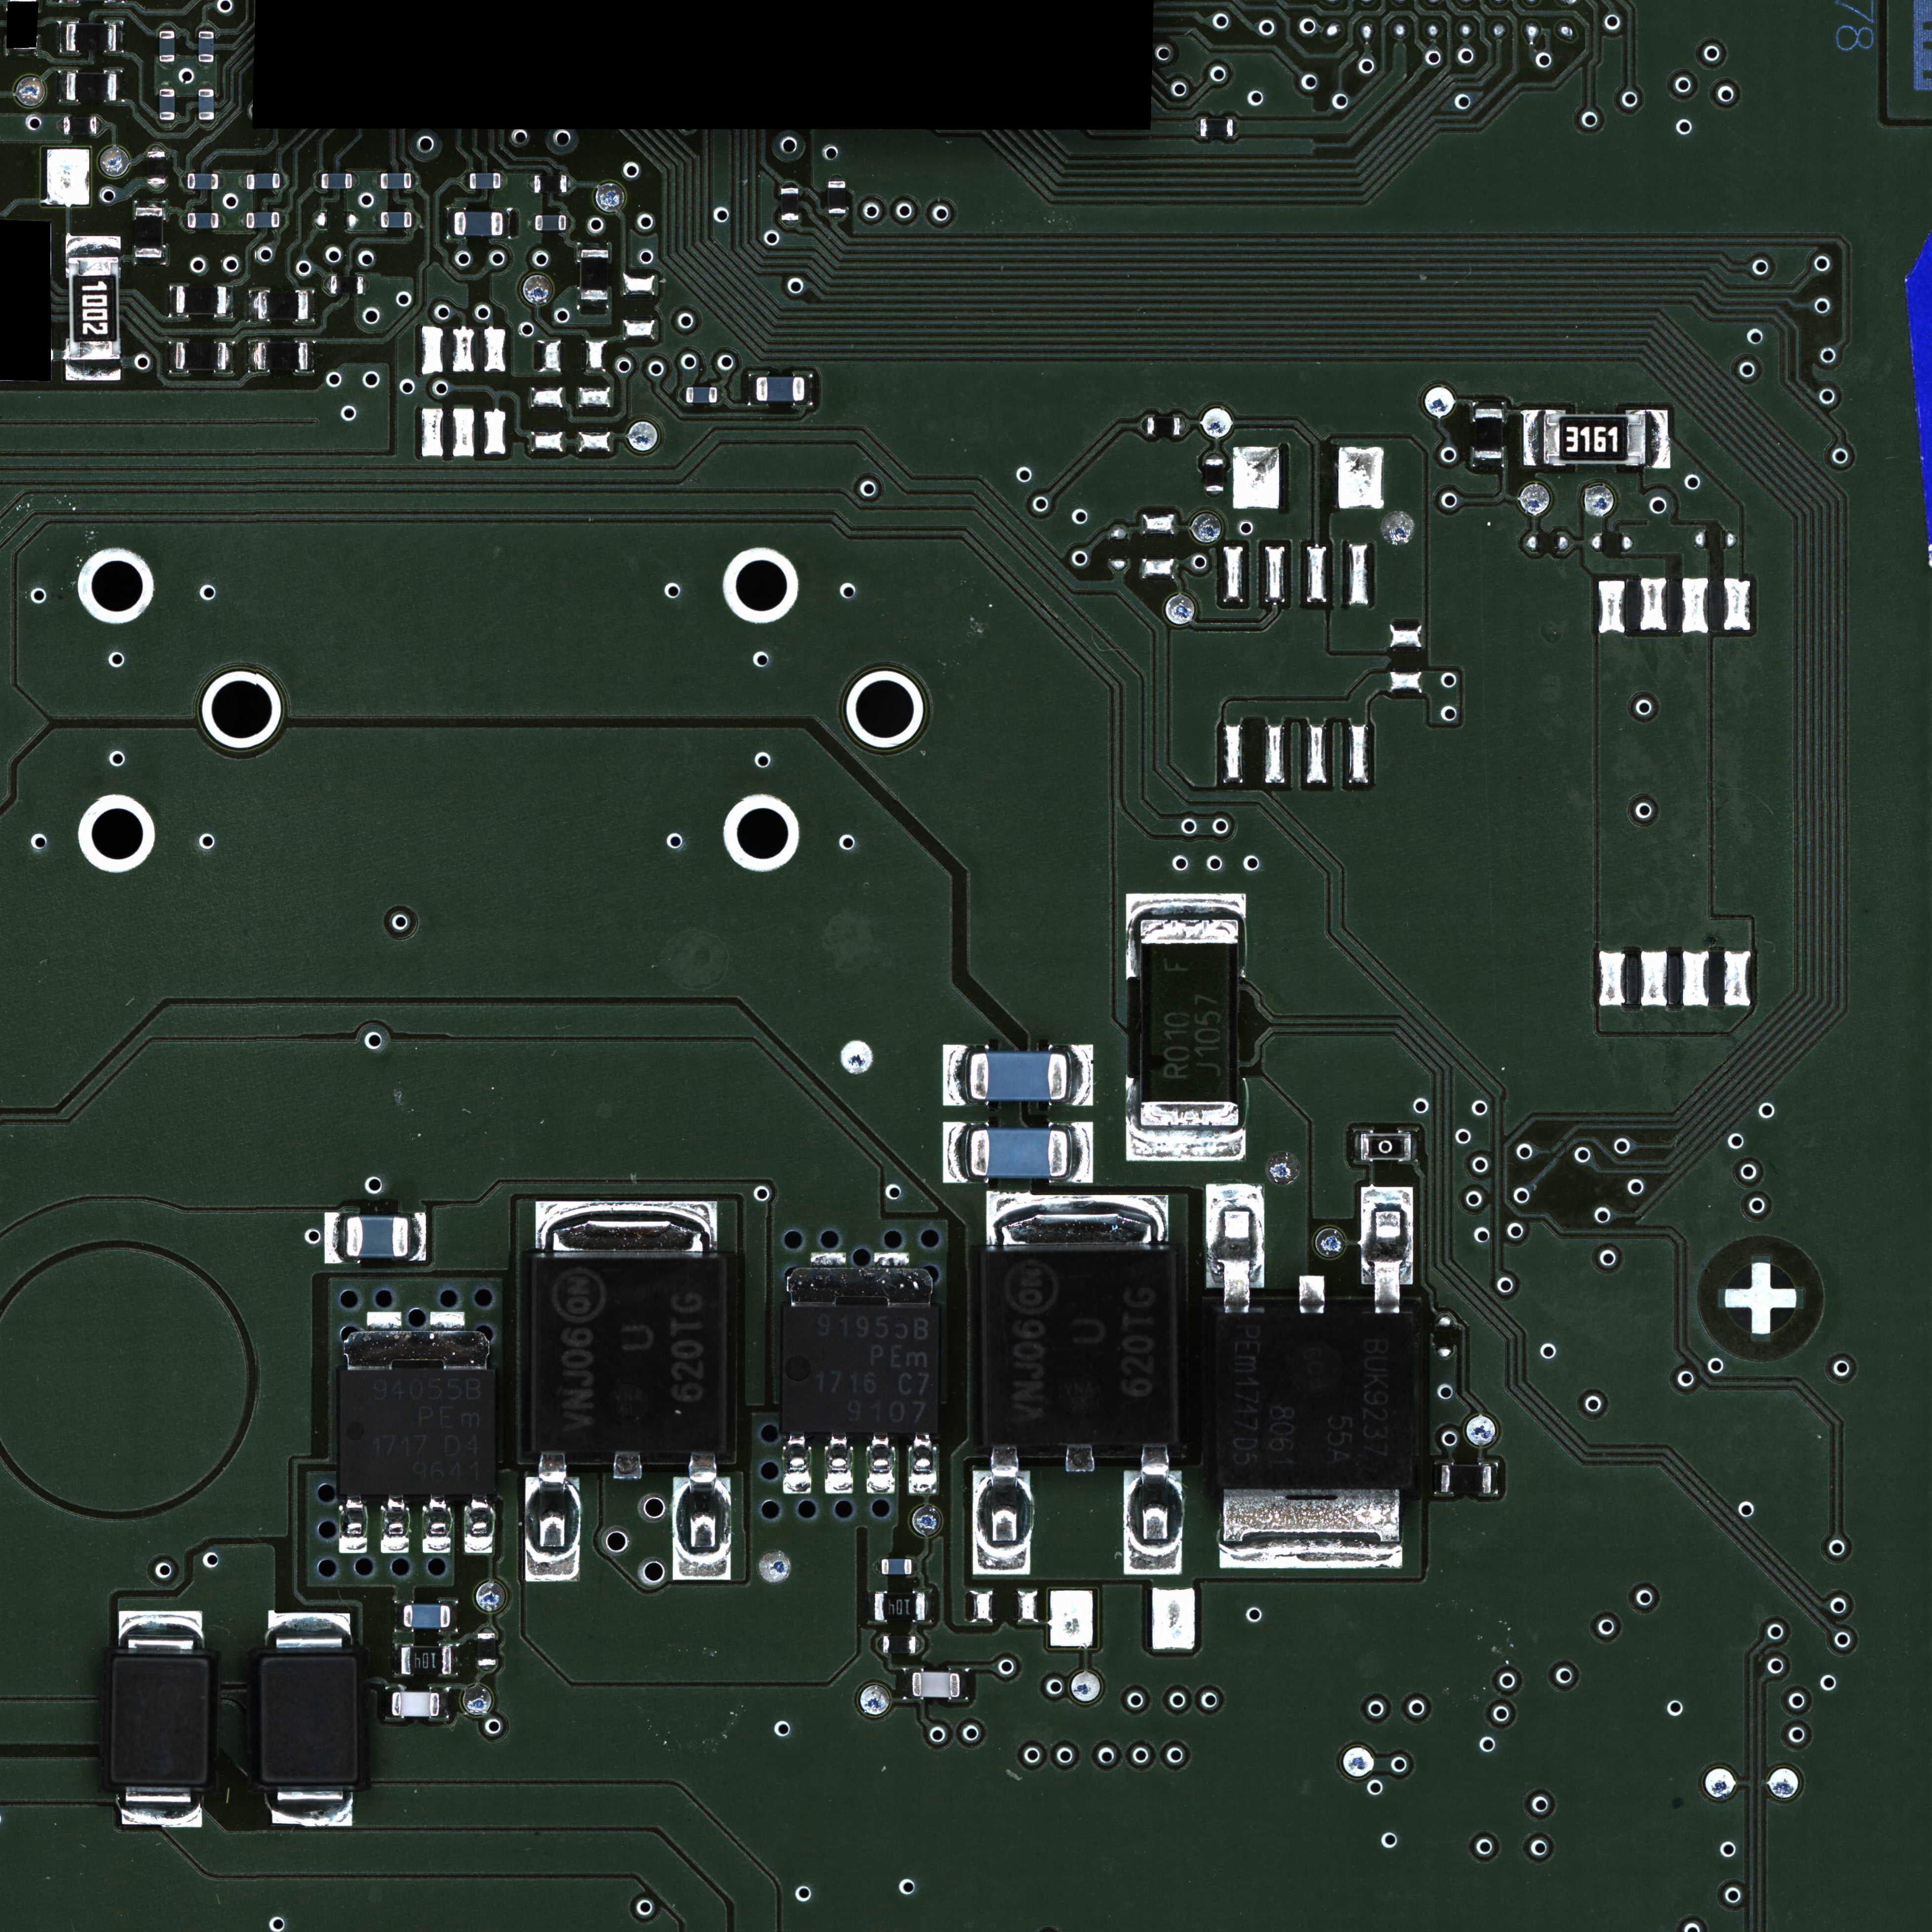Package: (533, 1258, 727, 1453), (985, 1251, 1175, 1444), (1215, 1313, 1410, 1490), (1139, 920, 1240, 1122), (782, 1307, 939, 1435), (338, 1369, 497, 1495), (262, 1656, 359, 1783), (113, 1658, 209, 1787), (67, 257, 119, 361), (1545, 414, 1647, 465), (970, 1129, 1069, 1177), (970, 1053, 1067, 1100), (347, 1217, 409, 1258), (874, 1592, 925, 1621), (175, 341, 226, 370), (257, 292, 308, 320), (175, 287, 226, 315), (134, 207, 163, 257), (65, 23, 115, 51), (580, 249, 609, 299), (1442, 1465, 1491, 1493), (1361, 1134, 1412, 1161), (257, 343, 308, 370), (1476, 409, 1502, 458), (67, 74, 117, 101), (402, 1647, 451, 1674), (755, 377, 805, 402), (913, 1672, 959, 1698), (393, 1691, 439, 1716), (455, 212, 502, 235), (403, 1605, 449, 1628), (828, 180, 847, 214), (1205, 458, 1224, 492), (329, 276, 364, 294), (478, 1633, 497, 1665), (1201, 119, 1233, 138), (780, 188, 798, 221), (1146, 418, 1180, 435), (534, 175, 568, 193), (883, 1637, 916, 1654), (246, 211, 280, 228), (64, 117, 96, 134), (149, 152, 166, 184), (246, 173, 280, 189), (198, 30, 214, 62), (159, 30, 175, 62), (198, 88, 214, 120), (686, 387, 718, 403), (159, 88, 175, 120), (188, 212, 219, 228), (380, 212, 412, 228), (188, 173, 219, 189), (881, 1559, 911, 1575), (471, 173, 501, 189), (380, 173, 410, 189), (322, 173, 352, 189), (534, 216, 566, 230)
Solder: (1219, 1490, 1403, 1569), (985, 1191, 1168, 1251), (534, 1201, 718, 1256), (343, 1311, 490, 1369), (786, 1253, 932, 1307), (1205, 1184, 1265, 1313), (973, 1444, 1031, 1575), (1123, 1444, 1182, 1575), (674, 1453, 732, 1580), (525, 1453, 580, 1582), (1361, 1187, 1412, 1313), (119, 1610, 203, 1656), (267, 1610, 350, 1656), (1129, 1127, 1246, 1159), (271, 1783, 352, 1828), (122, 1787, 203, 1828), (1125, 893, 1246, 920), (464, 1495, 495, 1553), (338, 1495, 368, 1553), (380, 1495, 410, 1553), (867, 1435, 897, 1493), (423, 1495, 453, 1553), (908, 1435, 938, 1493), (824, 1433, 853, 1495), (784, 1435, 812, 1493), (943, 1122, 970, 1184), (1069, 1122, 1093, 1184), (943, 1046, 968, 1106), (1069, 1046, 1092, 1106), (1647, 410, 1670, 469), (1523, 410, 1545, 467), (65, 235, 120, 257), (65, 361, 120, 380), (326, 1212, 345, 1263), (1299, 1276, 1325, 1313), (1065, 1445, 1095, 1472), (612, 1453, 642, 1479), (410, 1212, 426, 1261), (901, 1668, 913, 1698), (959, 1668, 970, 1700), (439, 1688, 449, 1720), (579, 299, 609, 310), (805, 373, 814, 407), (577, 241, 610, 249), (115, 19, 124, 53), (5, 50, 39, 58), (747, 373, 755, 405), (446, 207, 455, 239), (58, 71, 67, 103), (504, 207, 513, 239), (1472, 458, 1504, 467), (449, 1601, 458, 1633), (248, 340, 257, 372), (451, 1644, 460, 1675), (117, 71, 126, 103), (395, 1601, 403, 1631), (1433, 1463, 1442, 1493), (248, 290, 257, 320), (384, 1688, 393, 1716), (134, 258, 166, 265), (168, 285, 175, 317), (168, 340, 175, 372), (308, 290, 315, 322), (1353, 1131, 1361, 1162), (134, 200, 166, 207), (226, 341, 234, 373), (395, 1644, 402, 1675), (308, 340, 315, 372), (58, 21, 65, 53), (925, 1591, 932, 1622), (1474, 400, 1504, 407), (1412, 1131, 1419, 1161), (226, 287, 234, 317), (1491, 1463, 1499, 1493), (867, 1592, 874, 1622), (1205, 451, 1224, 460), (678, 386, 686, 405), (1180, 416, 1187, 435), (828, 212, 847, 219), (780, 180, 798, 188), (149, 184, 166, 191), (280, 211, 287, 228), (239, 211, 246, 228), (478, 1626, 495, 1633), (478, 1665, 495, 1672), (198, 81, 214, 88), (198, 23, 214, 30), (159, 23, 175, 30), (874, 1559, 881, 1575), (149, 145, 165, 152), (239, 173, 246, 189), (527, 214, 534, 230), (464, 173, 471, 189), (280, 173, 287, 189), (911, 1559, 918, 1575), (1205, 492, 1224, 497), (780, 221, 800, 226), (159, 81, 173, 88), (373, 173, 380, 188), (568, 175, 573, 193), (198, 120, 216, 126), (828, 175, 846, 180), (182, 212, 188, 230), (529, 175, 534, 193), (182, 173, 188, 191), (1233, 119, 1238, 136), (1196, 119, 1201, 136), (1141, 418, 1146, 435), (159, 62, 175, 67), (198, 62, 214, 67), (159, 120, 175, 126), (219, 212, 225, 228), (878, 1637, 883, 1652), (219, 173, 225, 189), (916, 1637, 922, 1652), (97, 117, 103, 133), (58, 119, 64, 134), (364, 276, 370, 292), (501, 173, 506, 189), (566, 216, 571, 230), (352, 173, 357, 188), (317, 173, 322, 188), (718, 387, 724, 402), (326, 276, 329, 294), (412, 212, 416, 226), (410, 172, 414, 186), (377, 212, 380, 226)
